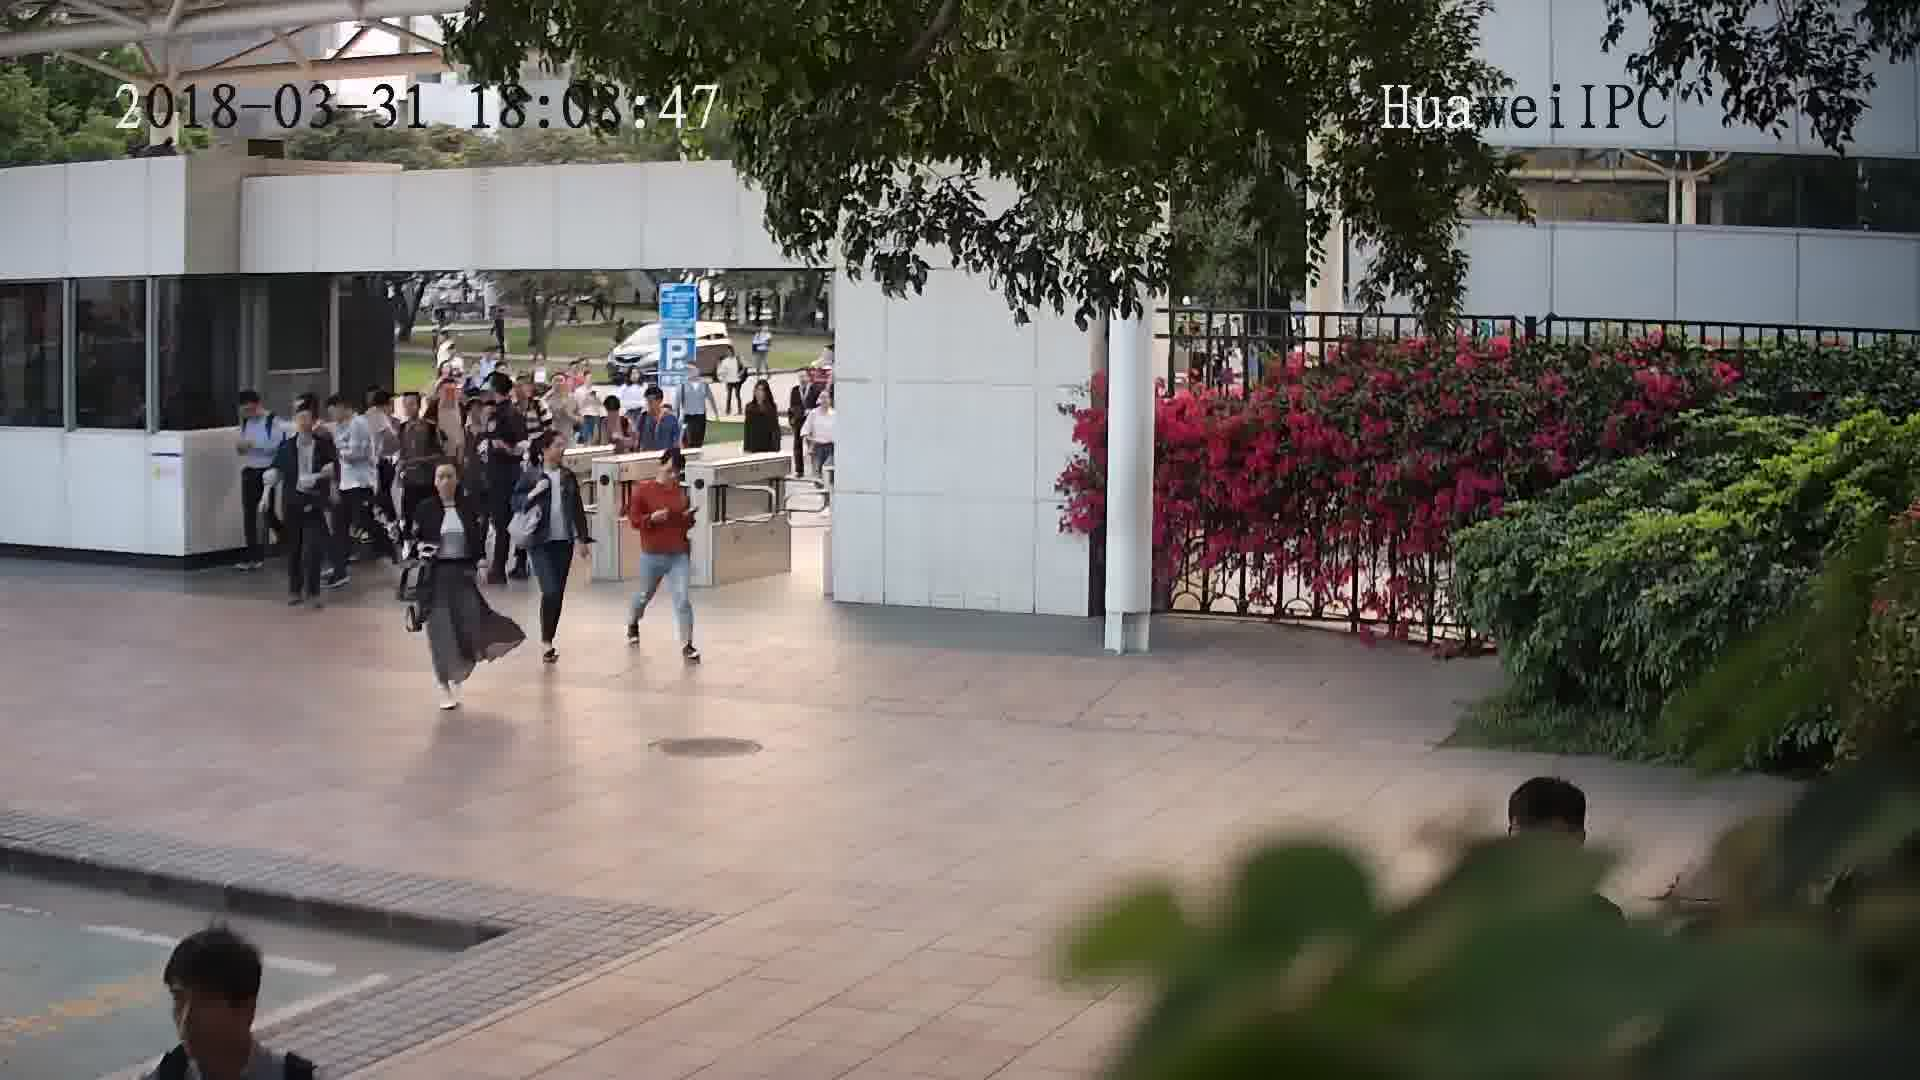face: (159, 973, 250, 1064)
person: (118, 929, 327, 1080), (524, 428, 579, 492), (418, 457, 474, 518), (637, 444, 692, 504), (278, 396, 332, 453), (232, 385, 283, 433), (323, 388, 370, 437), (480, 373, 524, 426), (637, 383, 684, 429), (425, 376, 471, 423), (392, 386, 437, 435), (510, 372, 552, 420), (360, 383, 400, 433), (743, 376, 782, 421), (543, 375, 583, 414), (675, 359, 713, 400), (596, 397, 638, 434), (614, 361, 649, 395)
